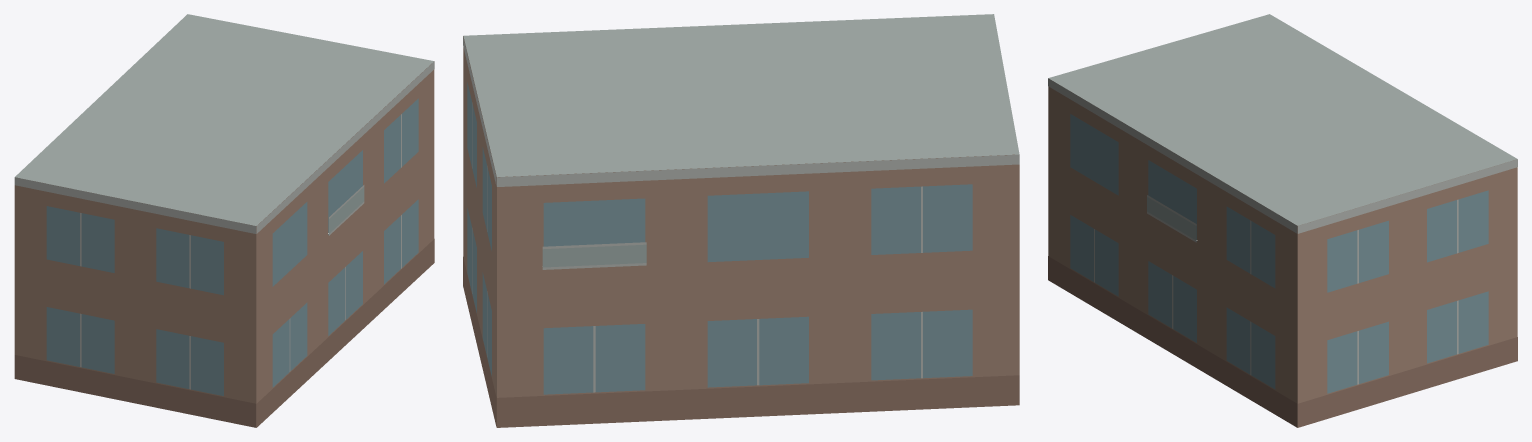
Rendered from survey-upis-32722670.glb.
The picture shows the model from 3 angles, left to right: view 1: azimuth 30°, elevation 25°; view 2: azimuth 150°, elevation 25°; view 3: azimuth 270°, elevation 25°; orthographic projection. The views are drawn at different scales.
Visible parts, largest first — view 1: survey-upis-32722670.tmp; view 2: survey-upis-32722670.tmp; view 3: survey-upis-32722670.tmp.
Boxes of the visible parts, x1,y1,x2,y2 form: survey-upis-32722670.tmp: (14, 14, 434, 427); survey-upis-32722670.tmp: (463, 14, 1019, 427); survey-upis-32722670.tmp: (1048, 14, 1517, 427).
Bounding box in the file's own units: 13.73 × 6.1 × 12.86.
